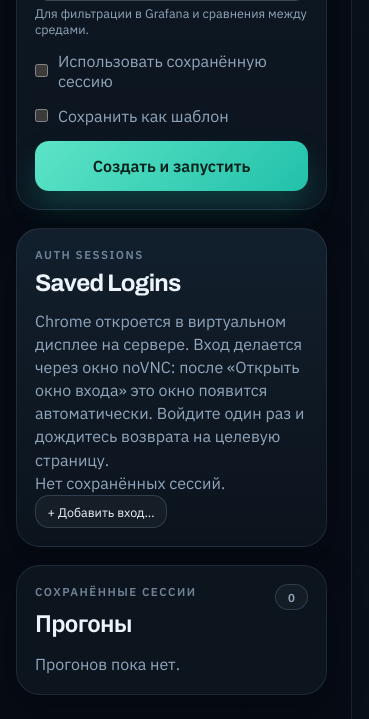
Scenario: pageperf-runner app shell › adds a new login and captures a per-host session from the UI
(page scrolled)
Check: the text "Нет сохранённых сессий." is shown, box [35,473,225,493]
Click the button "+ Добавить вход…". click: {"x": 101, "y": 512}
box: [35,495,167,528]
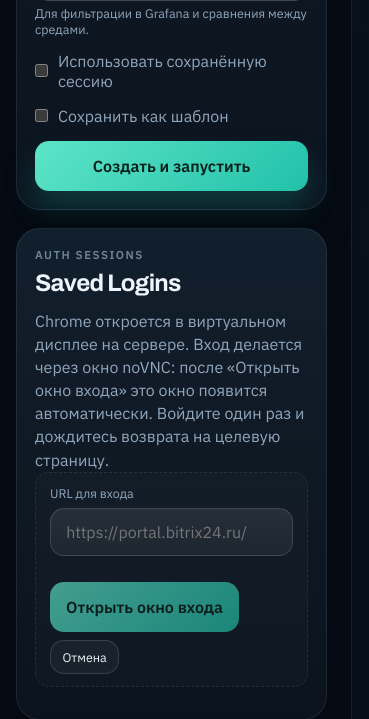
Type "https://portal.bitrix24.com/" into the field labelled "URL для входа". click: {"x": 172, "y": 532}
box: [50,508,293,556]
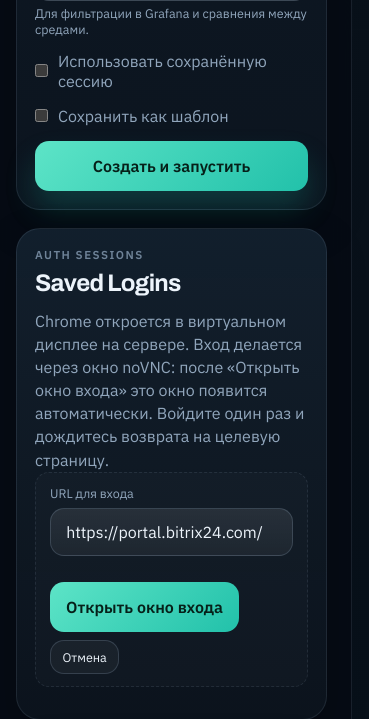
Click the button "Открыть окно входа". click: {"x": 145, "y": 607}
box: [50,582,239,632]
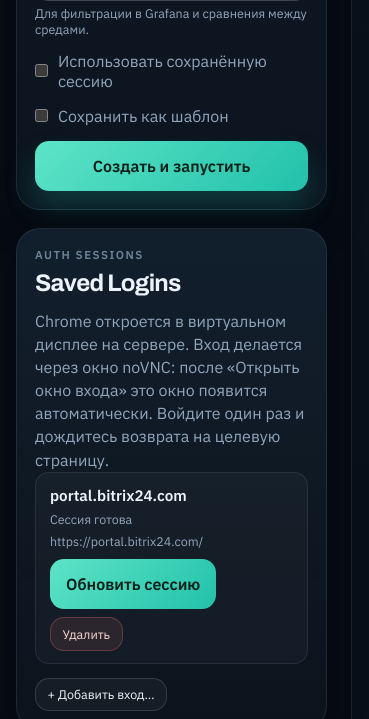
Check: the text "Сессия готова" is shown, box [50,511,132,527]
Check: the text "portal.bitrix24.com" is shown, box [50,485,187,505]
